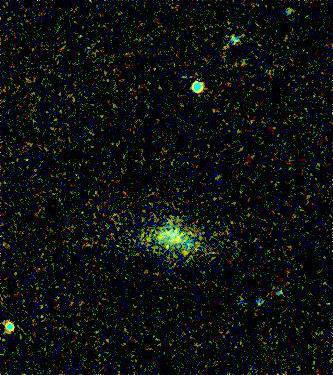star: (151, 229, 181, 259)
